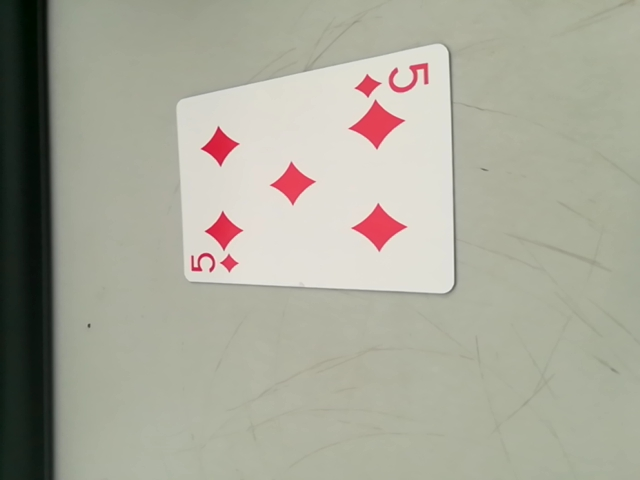fk 5: (355, 56, 432, 100), (188, 246, 244, 280)
